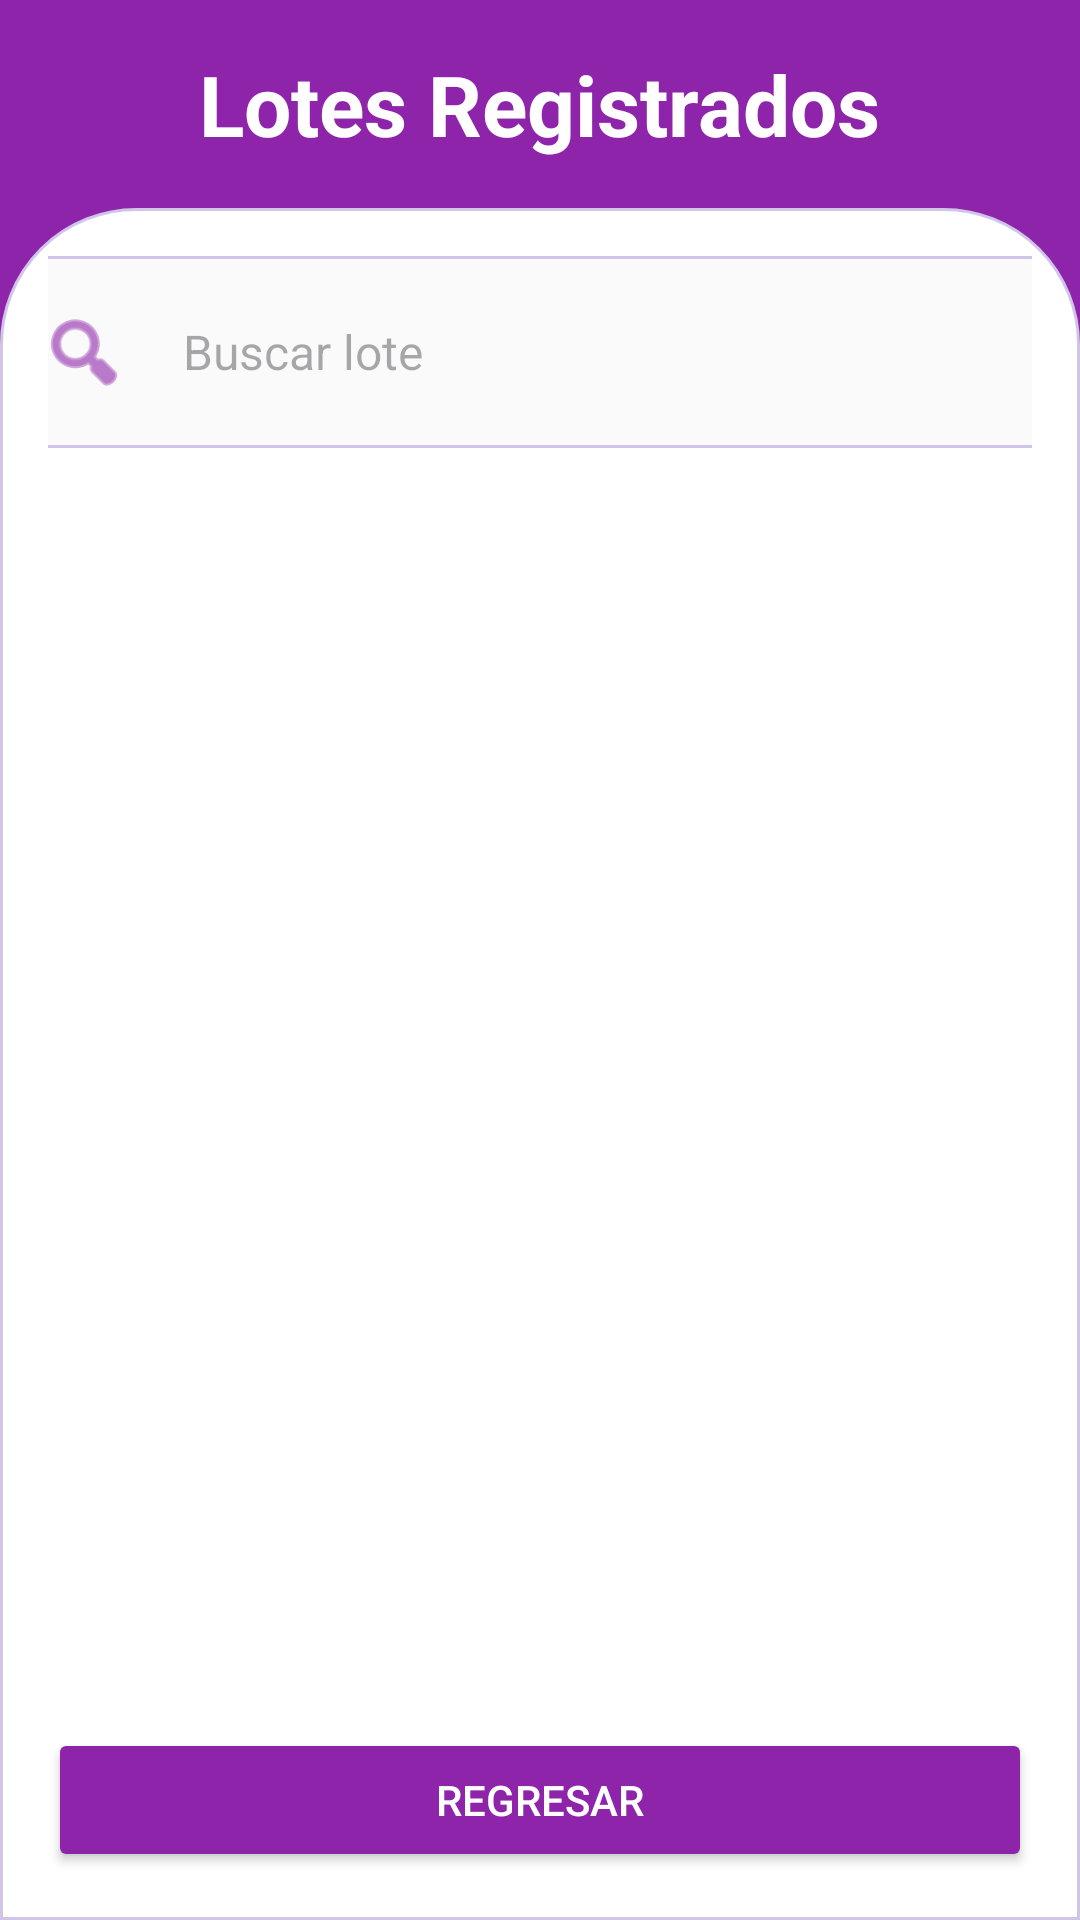

Locate icon controls on the screen. Image size 1080w x 1920h, boxes as (x1, y1, x2, y2).
search: (51, 319, 117, 386)
